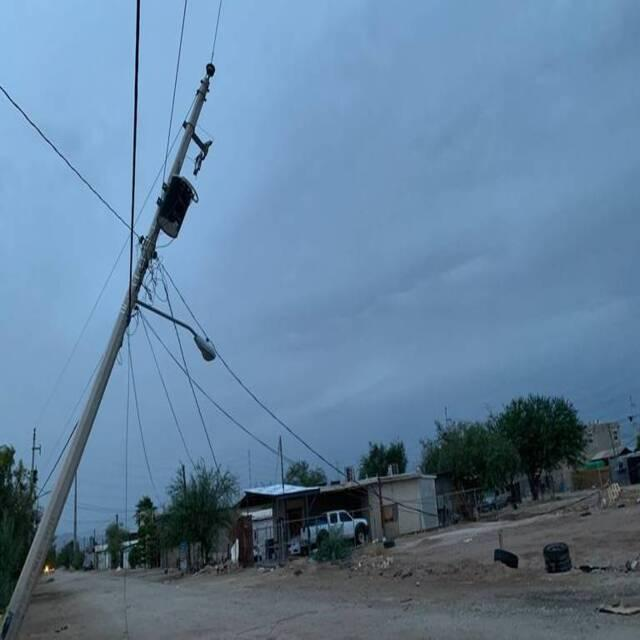Inclined Pole: (0, 60, 222, 640)
